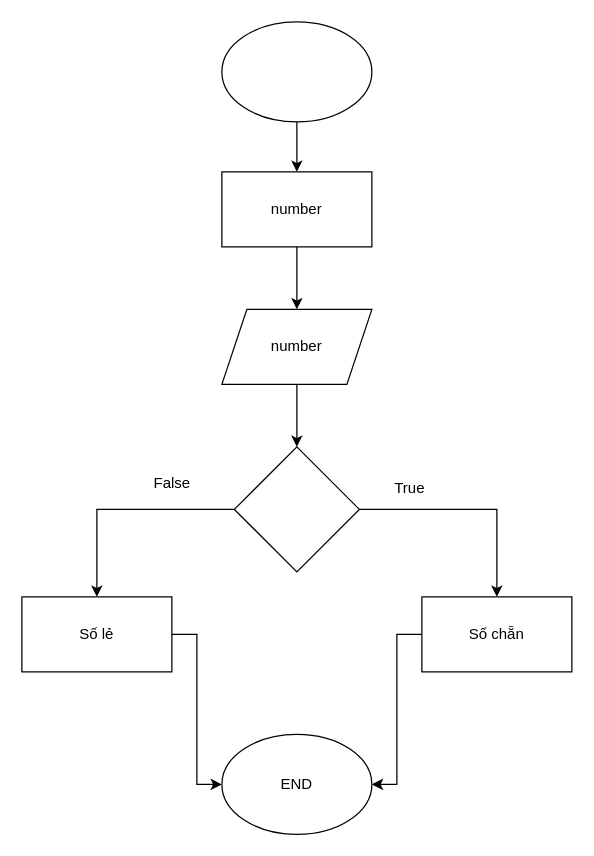
This 594x856 diagram has some shape labels left out. The centre of each missing label's shape, as x and y in pixels:
"Number%2==0" goes at (296,509).
"START" goes at (296,71).
